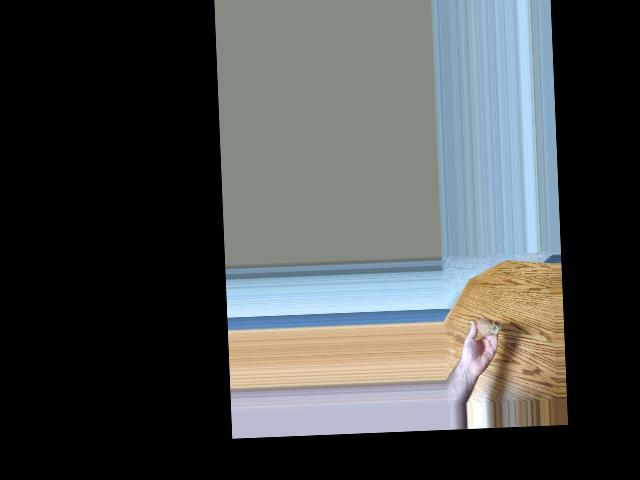sweet_potato: (473, 310, 499, 336)
